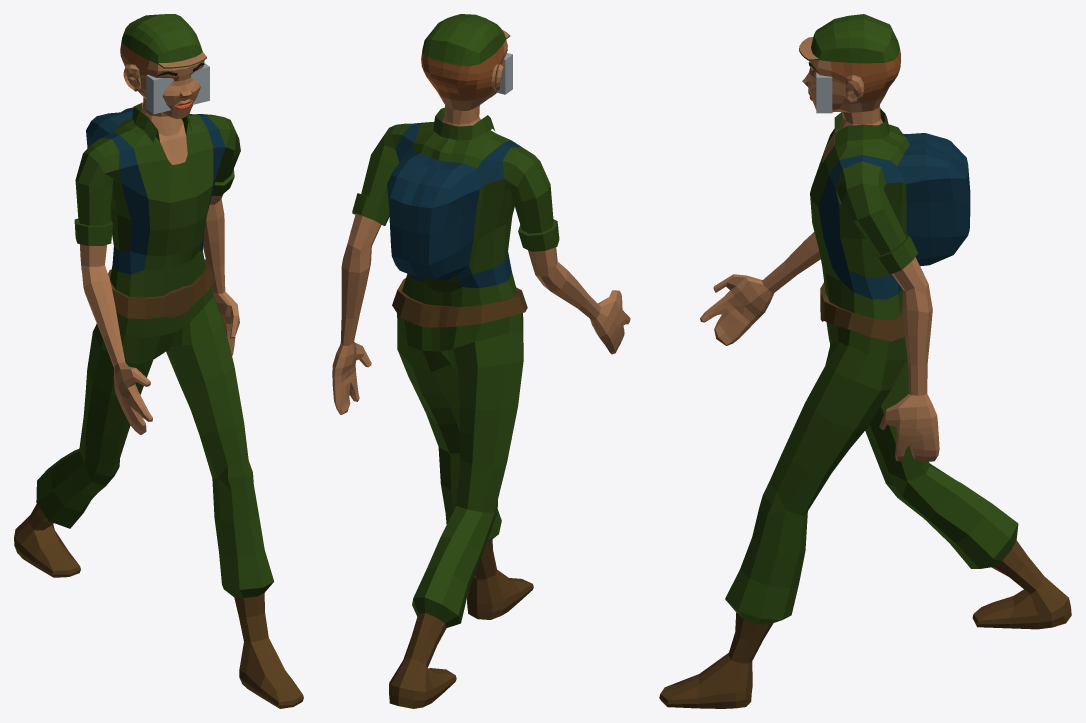
File: Soldier_Walk_Mask.fbx
The picture shows the model from 3 angles, left to right: view 1: azimuth 30°, elevation 25°; view 2: azimuth 150°, elevation 25°; view 3: azimuth 270°, elevation 25°; orthographic projection. The views are drawn at different scales.
Parts seen in each view (by area): view 1: Soldier_Walk_Mask; view 2: Soldier_Walk_Mask; view 3: Soldier_Walk_Mask.
Part boxes in pixels (x1,y1,x2,y2): Soldier_Walk_Mask: [14, 14, 303, 708]; Soldier_Walk_Mask: [332, 14, 630, 708]; Soldier_Walk_Mask: [659, 14, 1071, 708].
Bounding box in the file's own units: 0.3234 × 1.02 × 0.5758.
